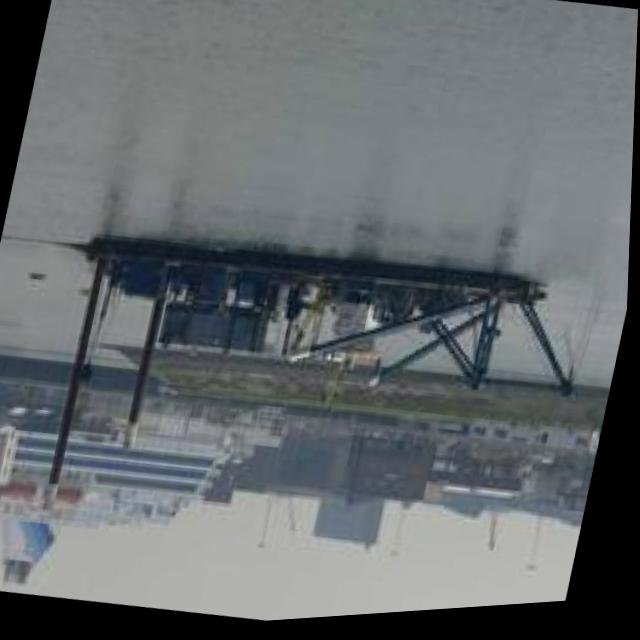ship2: (45, 237, 580, 512)
